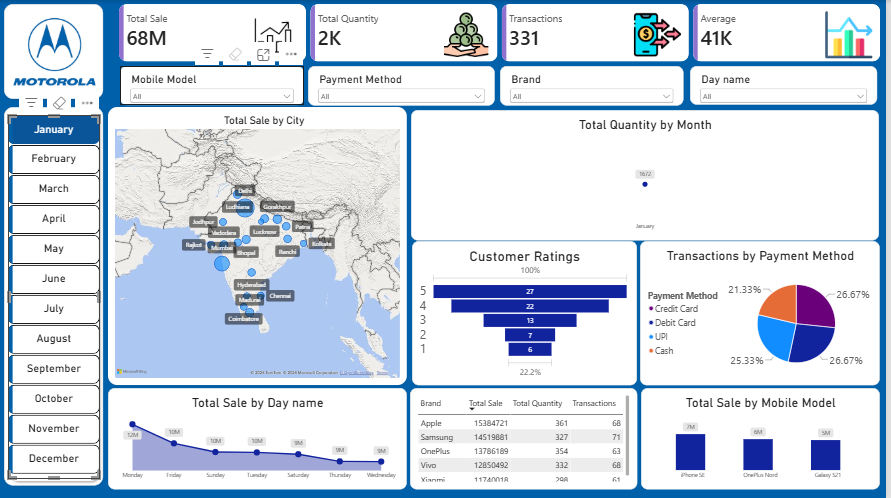

The page's visual inventory and layout, read from the dashboard file:
{"tool":"powerbi","page":{"name":"Page 1","canvas":[1920,1080],"ordinal":0},"visuals":[{"type":"shape","box":[9.7,9.7,215.5,205.8],"z":0},{"type":"image","box":[27.1,24.3,180,177.1],"z":1000},{"type":"shape","box":[9.7,232.4,215.5,820.8],"z":2000},{"type":"advancedSlicerVisual","fields":{"Values":["Sales_Data.Date.Variation.Date Hierarchy.Month"]},"box":[17.3,249.4,199.5,789.4],"z":3000},{"type":"cardVisual","fields":{"Data":["Sales_Data.Total Sale","Sales_Data.Total Quantity","Sales_Data.Transactions","Sales_Data.Average"]},"box":[248.5,0,1670.7,142.1],"z":4000},{"type":"map","fields":{"Category":["Sales_Data.City"],"Size":["Sales_Data.Total Sale"]},"box":[235,232.5,647.5,602.5],"z":5000},{"type":"lineChart","fields":{"Category":["Sales_Data.Date.Variation.Date Hierarchy.Month","Sales_Data.Date.Variation.Date Hierarchy.Day"],"Y":["Sales_Data.Total Quantity"]},"box":[892,238,1015,282.5],"z":6000},{"type":"clusteredColumnChart","fields":{"Category":["Sales_Data.Mobile Model"],"Y":["Sales_Data.Total Sale"]},"box":[1390,842.5,517.5,220],"z":7000},{"type":"pieChart","fields":{"Category":["Sales_Data.Payment Method"],"Y":["Sales_Data.Transactions"]},"box":[1387.5,522.5,520,312.5],"z":8000},{"type":"funnel","title":"Customer Ratings","fields":{"Category":["Sales_Data.Customer Ratings"],"Y":["CountNonNull(Sales_Data.Customer Ratings)"]},"box":[892.5,522.5,487.5,312.5],"z":9000},{"type":"areaChart","fields":{"Category":["Sales_Data.Day name"],"Y":["Sales_Data.Total Sale"]},"box":[235,842.5,647.5,220],"z":10000},{"type":"tableEx","fields":{"Values":["Sales_Data.Brand","Sales_Data.Total Sale","Sales_Data.Total Quantity","Sales_Data.Transactions"]},"box":[890,842.5,492.5,220],"z":11000},{"type":"slicer","fields":{"Values":["Sales_Data.Mobile Model"]},"box":[260,143.8,398.8,85],"z":12000},{"type":"slicer","fields":{"Values":["Sales_Data.Payment Method"]},"box":[668.8,142.5,405,86.2],"z":12001},{"type":"slicer","fields":{"Values":["Sales_Data.Day name"]},"box":[1496,144,406,84],"z":12002},{"type":"slicer","fields":{"Values":["Sales_Data.Brand"]},"box":[1083.8,142.5,397.5,86.2],"z":12003}]}

Visuals, with their boxes in screenshot pixels (x1, y1, x2, y2), scaled from the page's 1920x1080 canvas onto the 891x498 screenshot:
shape: box=[5, 4, 105, 99]
image: box=[13, 11, 96, 93]
shape: box=[5, 107, 105, 486]
advancedSlicerVisual - Sales_Data.Date.Variation.Date Hierarchy.Month: box=[8, 115, 101, 479]
cardVisual - Sales_Data.Total Sale x Sales_Data.Total Quantity: box=[115, 0, 890, 66]
map - Sales_Data.City x Sales_Data.Total Sale: box=[109, 107, 410, 385]
lineChart - Sales_Data.Date.Variation.Date Hierarchy.Month x Sales_Data.Date.Variation.Date Hierarchy.Day: box=[414, 110, 885, 240]
clusteredColumnChart - Sales_Data.Mobile Model x Sales_Data.Total Sale: box=[645, 388, 885, 490]
pieChart - Sales_Data.Payment Method x Sales_Data.Transactions: box=[644, 241, 885, 385]
"Customer Ratings" funnel: box=[414, 241, 640, 385]
areaChart - Sales_Data.Day name x Sales_Data.Total Sale: box=[109, 388, 410, 490]
tableEx - Sales_Data.Brand x Sales_Data.Total Sale: box=[413, 388, 642, 490]
slicer - Sales_Data.Mobile Model: box=[121, 66, 306, 106]
slicer - Sales_Data.Payment Method: box=[310, 66, 498, 105]
slicer - Sales_Data.Day name: box=[694, 66, 883, 105]
slicer - Sales_Data.Brand: box=[503, 66, 687, 105]
